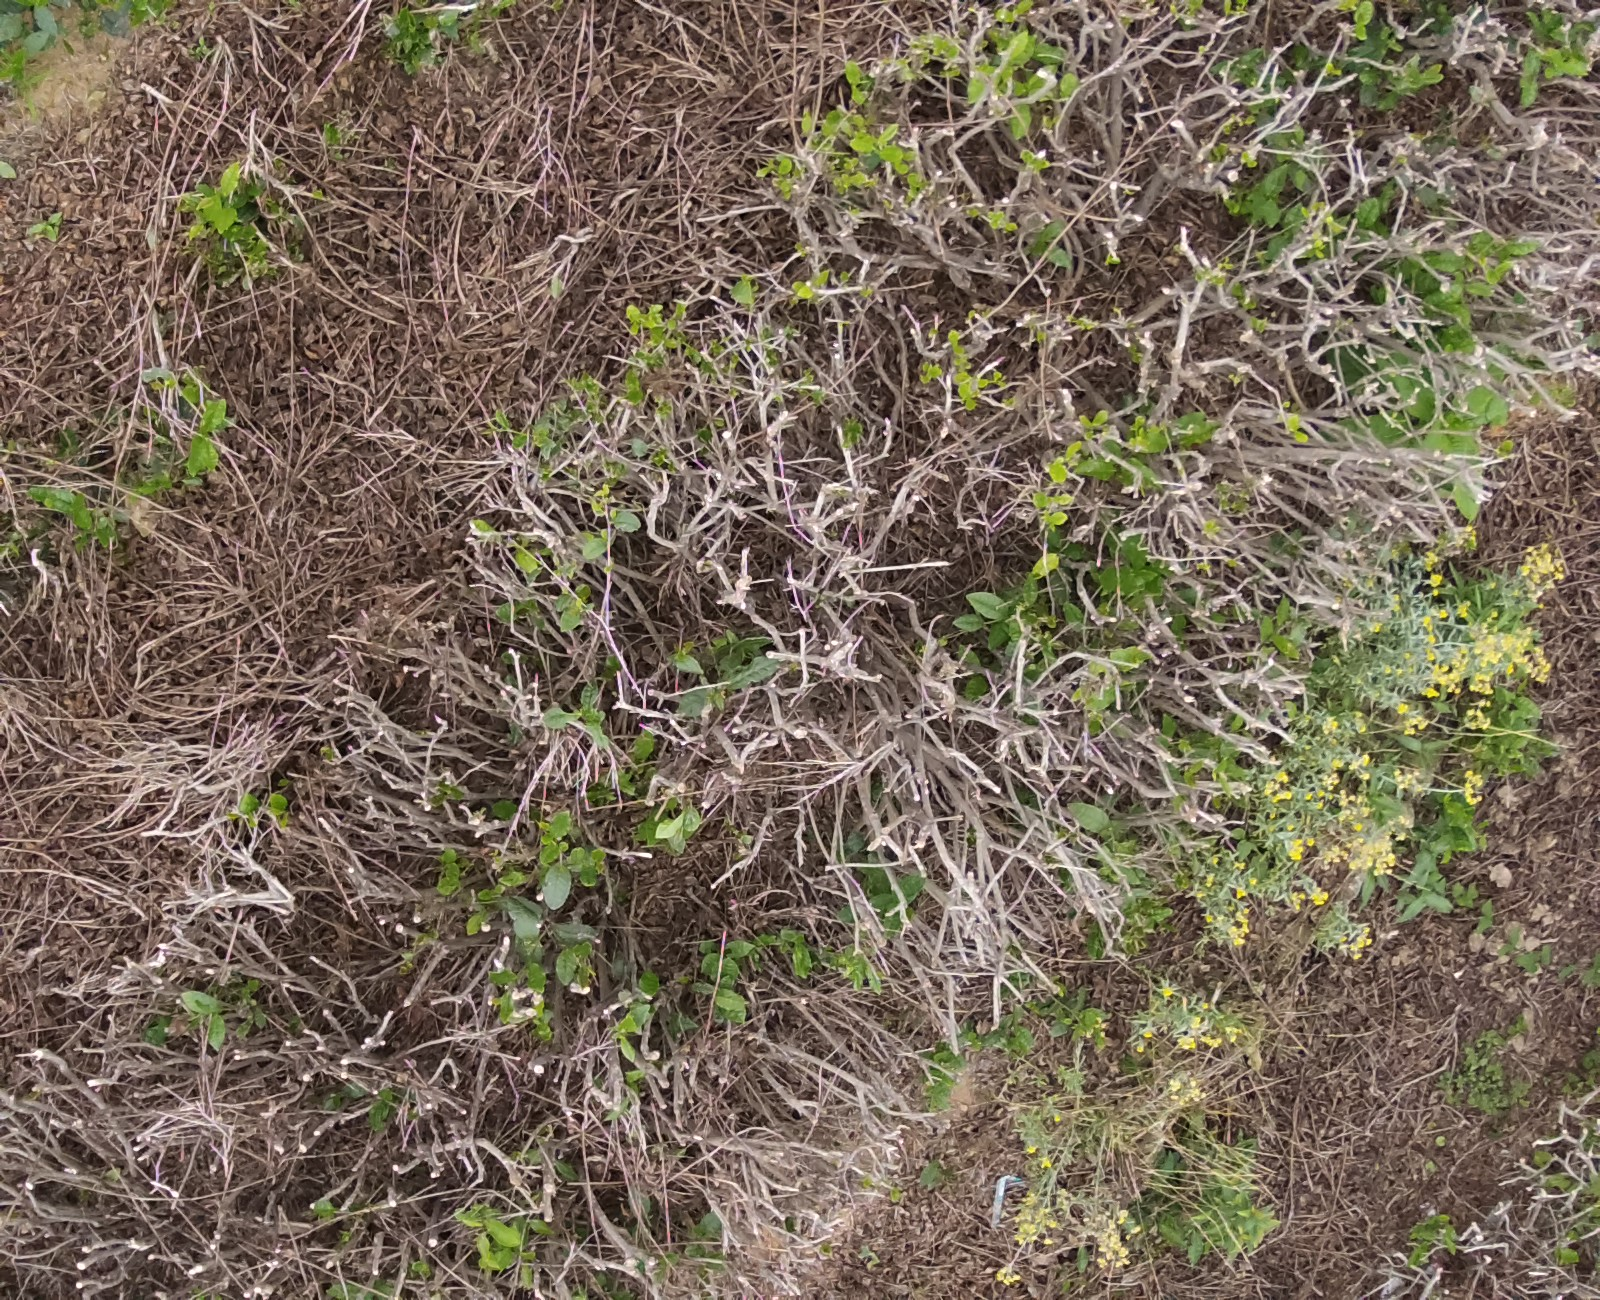new: (1003, 31, 1027, 58), (513, 548, 537, 574), (222, 162, 239, 198), (1130, 417, 1149, 450), (642, 302, 663, 330), (620, 1035, 637, 1064), (624, 306, 642, 333), (946, 332, 966, 356), (1033, 554, 1057, 574), (878, 143, 901, 163), (1049, 462, 1069, 484), (789, 281, 813, 298), (849, 137, 874, 153), (878, 122, 897, 143), (1355, 1, 1373, 23), (844, 60, 860, 84), (195, 194, 218, 210), (470, 516, 494, 531), (1328, 218, 1349, 233), (590, 499, 608, 517), (1202, 519, 1219, 536), (187, 222, 204, 239), (850, 85, 866, 103), (1065, 440, 1081, 459), (1093, 409, 1110, 424), (1076, 413, 1092, 430), (1240, 150, 1256, 167), (815, 269, 831, 287), (1325, 60, 1343, 76), (987, 210, 1002, 228), (954, 369, 972, 383), (800, 113, 812, 134), (892, 161, 907, 176), (593, 483, 610, 497), (1352, 23, 1367, 40), (620, 1016, 637, 1031), (850, 172, 869, 186), (1313, 237, 1325, 257), (776, 161, 791, 176), (1049, 509, 1065, 524), (958, 383, 971, 401), (1284, 415, 1299, 430), (1033, 493, 1049, 507), (1294, 430, 1309, 442), (927, 365, 941, 378), (756, 166, 772, 176), (965, 397, 976, 410), (900, 151, 915, 161), (1057, 493, 1071, 504), (1004, 220, 1016, 231), (918, 373, 927, 383), (780, 180, 791, 190)
